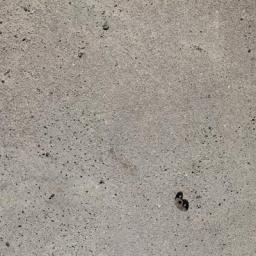FOD: (173, 189, 193, 215)
